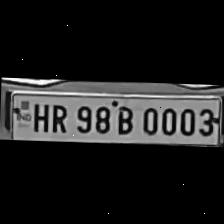0: (138, 103, 160, 136), (158, 103, 178, 135), (176, 104, 196, 136)
3: (196, 104, 218, 138)
8: (92, 100, 112, 134)
9: (70, 100, 93, 134)
B: (113, 101, 135, 135)
H: (28, 98, 50, 132)
R: (47, 100, 69, 134)
